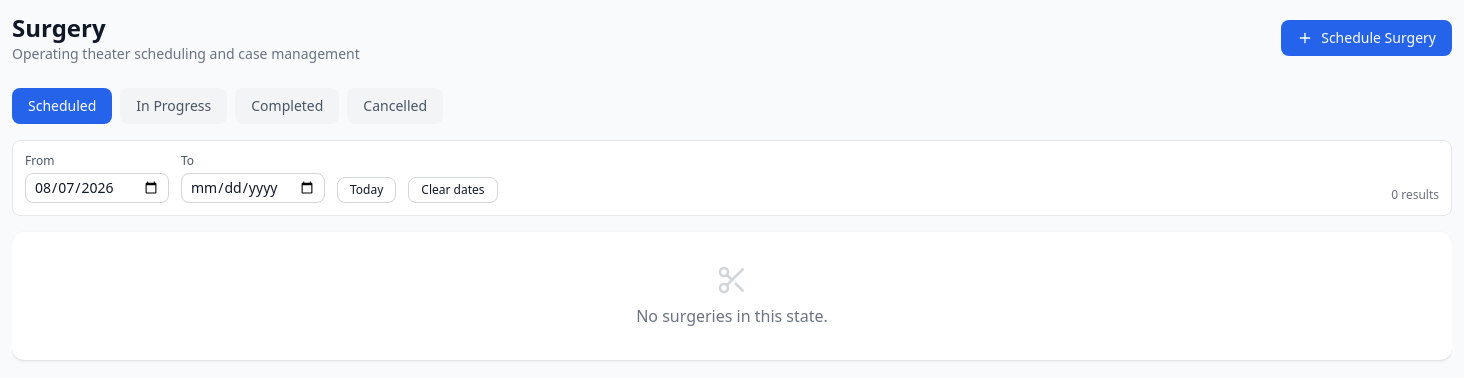
Test case: Surgery dashboard page › Clear dates button blanks both inputs and refires GET without from/to params
Expected: the text "No surgeries in this state." is shown, [636,264,828,327]
Step 1. Click the button with test id "surgery-filter-clear" → (453, 190), box [408,177,498,203]
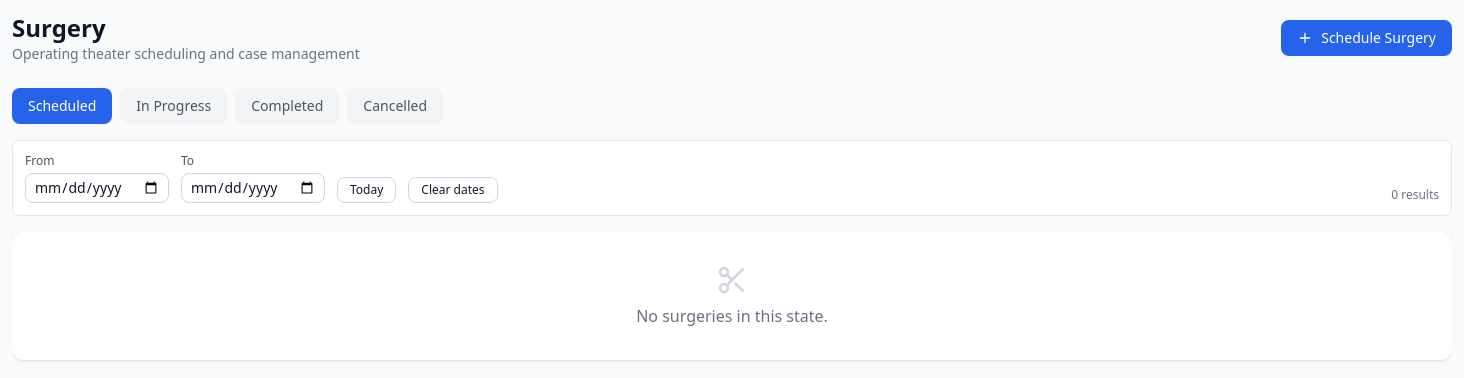
Expected: the date field with test id "surgery-filter-to" is empty, [181,173,325,203]
Expected: the date field with test id "surgery-filter-from" is empty, [25,173,169,203]
